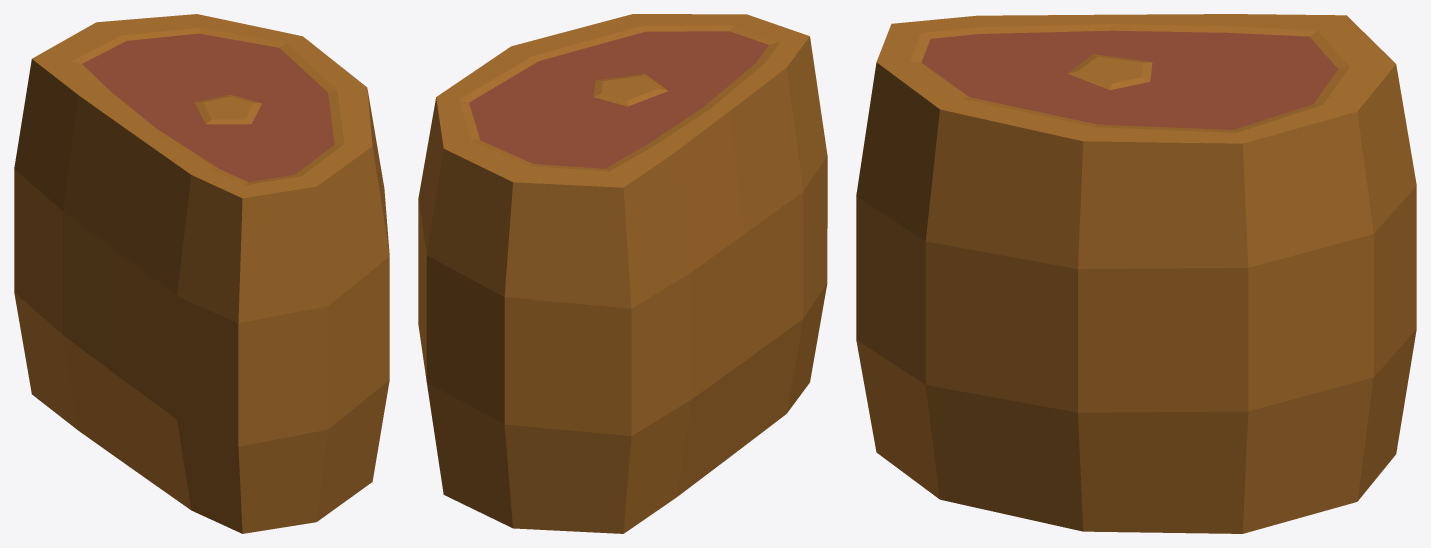
Rendered from Ham.glb.
The picture shows the model from 3 angles, left to right: view 1: azimuth 30°, elevation 25°; view 2: azimuth 150°, elevation 25°; view 3: azimuth 270°, elevation 25°; orthographic projection. The views are drawn at different scales.
Parts seen in each view (by area): view 1: Ham; view 2: Ham; view 3: Ham.
Boxes of the visible parts, x1,y1,x2,y2 form: Ham: [14, 14, 389, 533]; Ham: [418, 14, 827, 533]; Ham: [856, 14, 1416, 533].
Bounding box in the file's own units: 0.1368 × 0.1695 × 0.2207.
